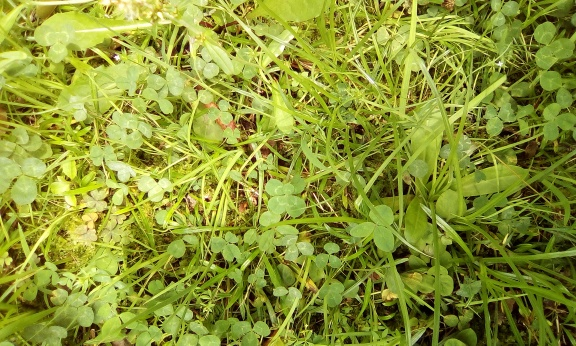4leaf: (265, 175, 307, 217)
